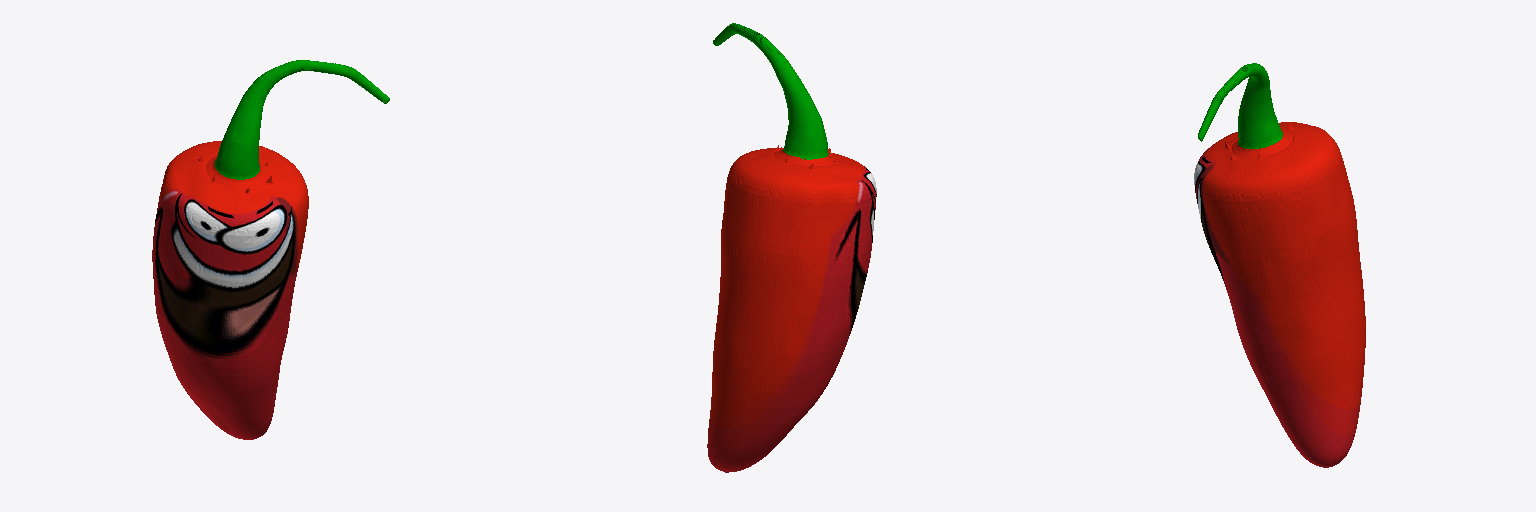
3 renders of one model, left to right at view 1: azimuth 30°, elevation 25°; view 2: azimuth 150°, elevation 25°; view 3: azimuth 270°, elevation 25°, orthographic.
Parts seen in each view (by area): view 1: lowerJalapeno_10184_JalapenoPepper, lowerJalapeno.001_10184_JalapenoPepper.005; view 2: lowerJalapeno_10184_JalapenoPepper, lowerJalapeno.001_10184_JalapenoPepper.005; view 3: lowerJalapeno_10184_JalapenoPepper, lowerJalapeno.001_10184_JalapenoPepper.005.
Part boxes in pixels (x1,y1,x2,y2): lowerJalapeno_10184_JalapenoPepper: (152,141,308,439); lowerJalapeno.001_10184_JalapenoPepper.005: (214,60,389,179); lowerJalapeno_10184_JalapenoPepper: (707,145,876,472); lowerJalapeno.001_10184_JalapenoPepper.005: (713,23,828,159); lowerJalapeno_10184_JalapenoPepper: (1194,122,1365,467); lowerJalapeno.001_10184_JalapenoPepper.005: (1198,63,1282,148).
Bounding box in the file's own units: 24.77 × 50.71 × 19.54.
2 materials, 1 textured.